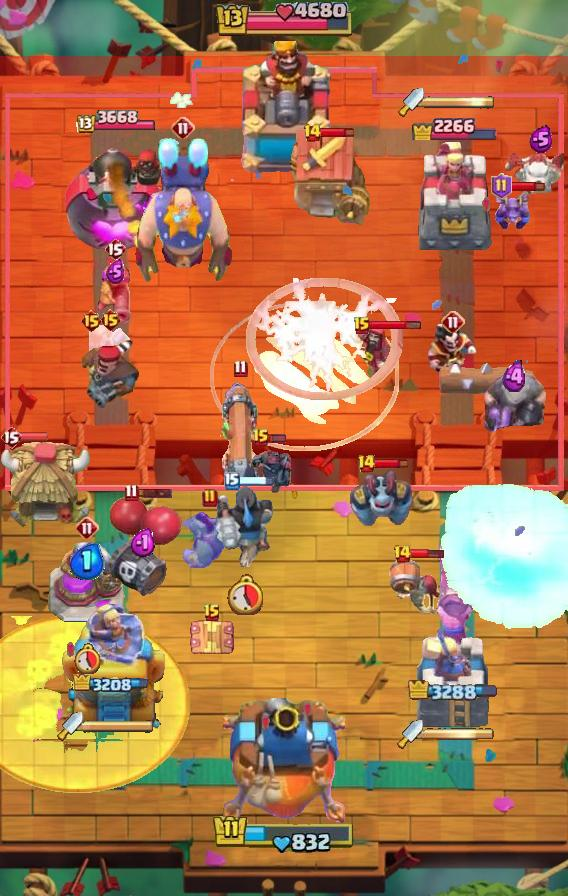bar: (59, 595, 169, 731), (412, 140, 494, 256), (414, 623, 492, 731)
barbarian-evolution: (245, 278, 404, 400)
battle-healer: (216, 381, 264, 493), (431, 542, 477, 646)
battle-ram: (249, 443, 295, 497)
bomb-tower: (95, 249, 135, 325)
bowler: (354, 324, 396, 382)
clock: (212, 813, 356, 855), (213, 2, 355, 40)
electro-spirit: (71, 543, 106, 581), (502, 360, 528, 394), (130, 528, 157, 558), (529, 126, 553, 154), (106, 259, 125, 284)
elixir: (227, 573, 263, 614), (74, 643, 100, 673)
elixir-golem-small: (348, 468, 416, 530)
emote: (369, 320, 422, 331), (320, 125, 355, 138), (375, 457, 410, 470), (237, 475, 274, 487), (136, 487, 173, 499), (410, 548, 446, 560), (510, 180, 545, 192), (13, 430, 49, 441), (269, 432, 288, 443)
flying-machine: (182, 508, 238, 568)
goblin-brawler: (188, 616, 236, 660)
hog-rider: (86, 324, 132, 370)
ice-wizard: (209, 301, 398, 451)
inferno-dragon: (214, 486, 276, 576)
king-tower: (228, 41, 340, 181), (223, 698, 345, 826)
king-tower-bar: (424, 95, 496, 109), (83, 719, 155, 733), (423, 727, 495, 741)
knight: (386, 558, 442, 616)
little-prince: (131, 137, 235, 285)
lumberjack: (427, 324, 479, 378)
mega-knight: (436, 483, 568, 633)
mini-pekka: (504, 148, 568, 198)
minion: (437, 358, 537, 400)
pekka: (48, 542, 126, 624)
phoenix-egg: (0, 615, 192, 792)
phoenix-small: (79, 337, 141, 409)
prince: (0, 440, 94, 530)
royal-delivery: (491, 189, 533, 233)
royal-guardian: (480, 368, 550, 432)
royal-recruit-evolution: (104, 495, 182, 601)
selected: (409, 112, 497, 140), (408, 680, 498, 704), (73, 110, 154, 136), (73, 674, 155, 696)
sparky: (284, 129, 370, 227)
text: (171, 116, 195, 140), (441, 310, 465, 334), (75, 516, 99, 540), (99, 308, 122, 332), (81, 309, 104, 333), (492, 173, 513, 199), (104, 237, 126, 261), (0, 425, 22, 449), (303, 123, 322, 143), (356, 454, 375, 474), (393, 544, 412, 564), (353, 316, 371, 336), (252, 428, 270, 448), (203, 603, 221, 623), (202, 488, 218, 508), (224, 472, 240, 490), (124, 483, 139, 501), (233, 358, 247, 377)
tower-bar: (63, 138, 164, 256)
